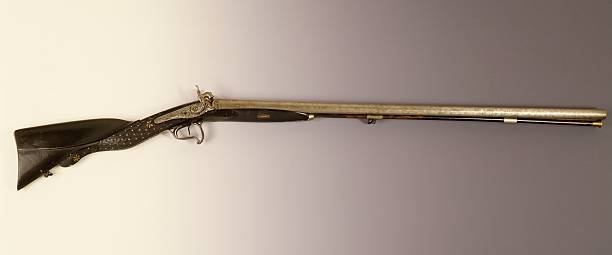shotgun: (12, 84, 606, 192)
